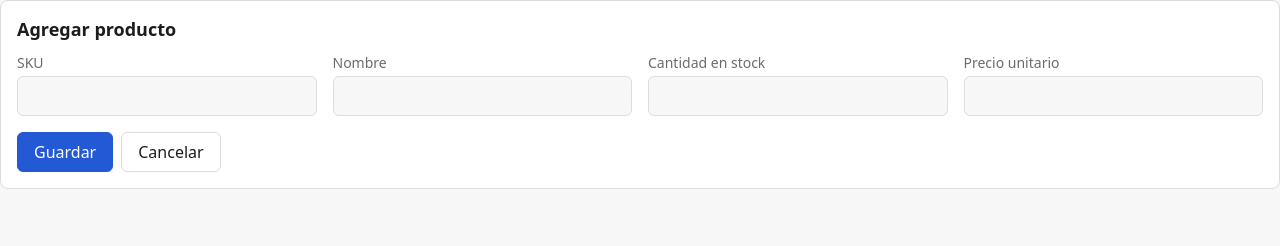
AddProductForm › muestra en su campo los errores 400 del servidor
This screenshot has width=1280, height=246.
Type "ALT-06" into the field labelled "SKU" at (167, 96), box [17, 76, 316, 116]
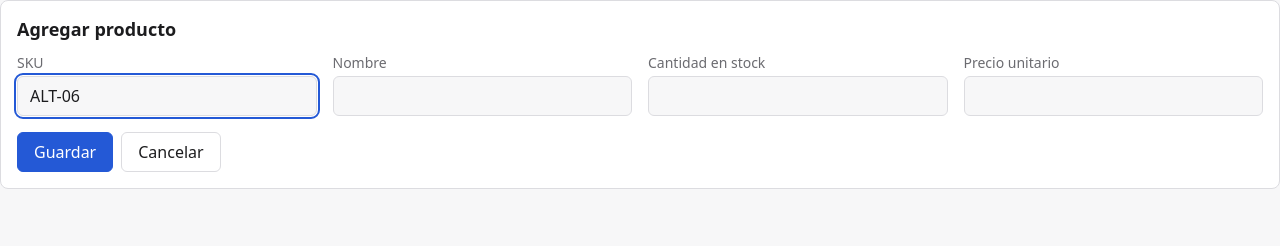
Type "Radiador" into the field labelled "Nombre" at (482, 96), box [332, 76, 632, 116]
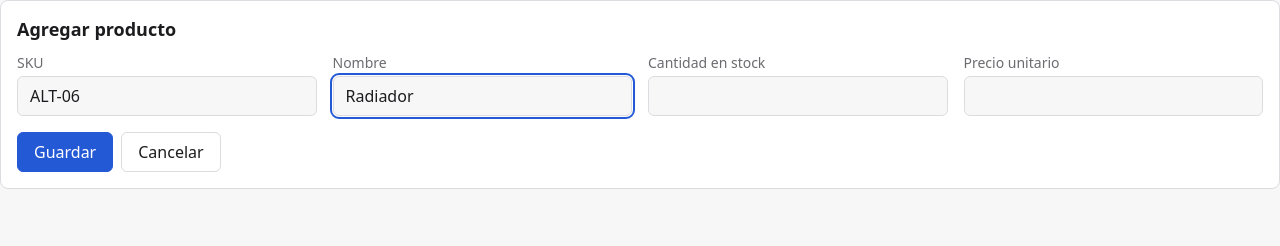
Type "8" into the field labelled "Cantidad en stock" at (798, 96), box [648, 76, 948, 116]
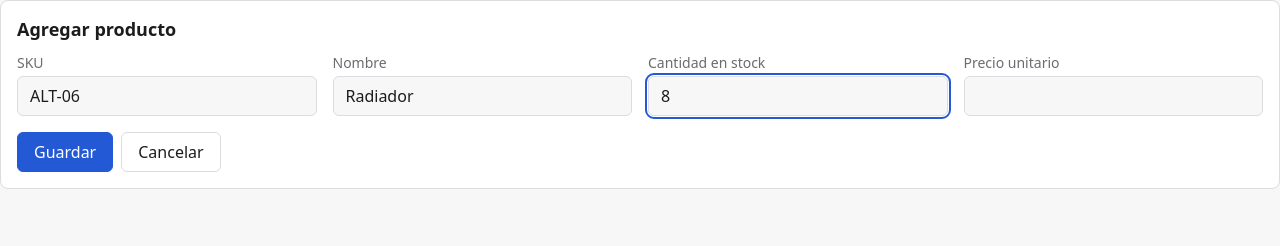
Type "350000,50" into the field labelled "Precio unitario" at (1113, 96), box [964, 76, 1263, 116]
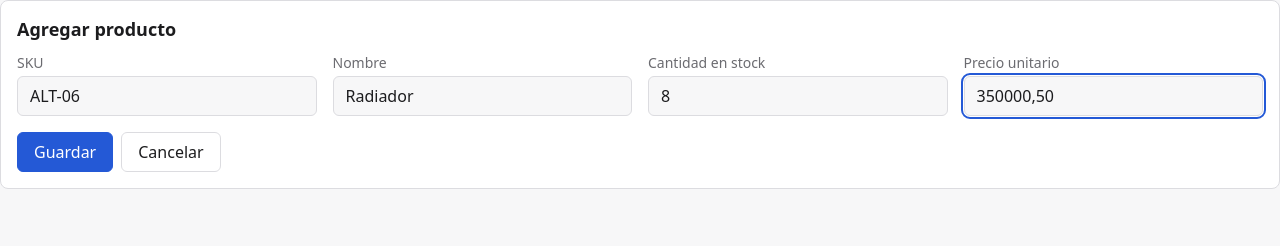
Click the button "Guardar" at (65, 152), box [17, 132, 113, 172]
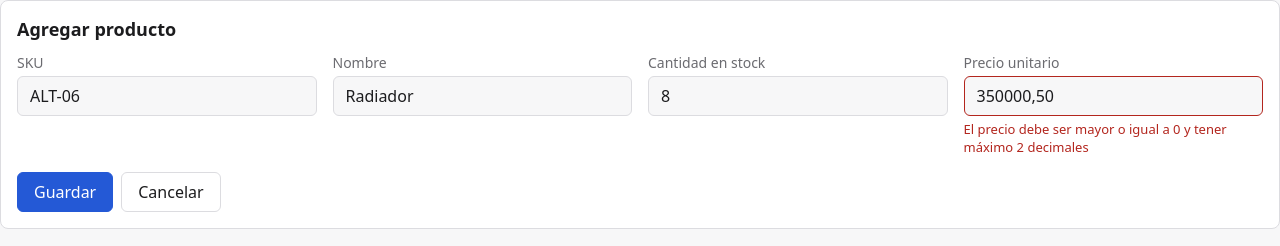
Expected: the text "El precio debe ser mayor o igual a 0 y tener máximo 2 decimales" is shown, [964, 120, 1263, 156]
